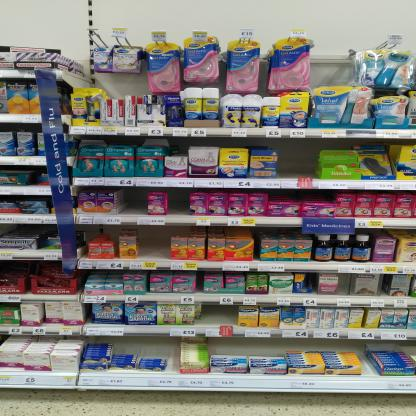Void: (309, 40, 355, 85), (280, 139, 317, 179), (209, 337, 278, 355), (141, 230, 170, 258), (271, 190, 334, 202), (120, 338, 173, 352), (292, 340, 357, 350), (109, 75, 143, 92), (120, 190, 143, 211), (170, 190, 187, 216), (202, 310, 232, 323), (336, 276, 352, 296)
